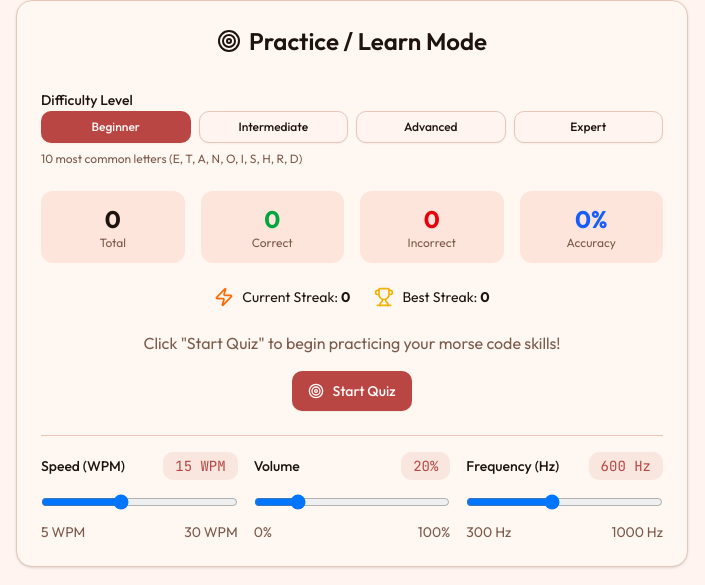
Scenario: PracticeQuiz › changes difficulty description when difficulty is clicked
This screenshot has width=705, height=585.
Click the button "Advanced". click: (431, 127)
box: [356,111,506,143]
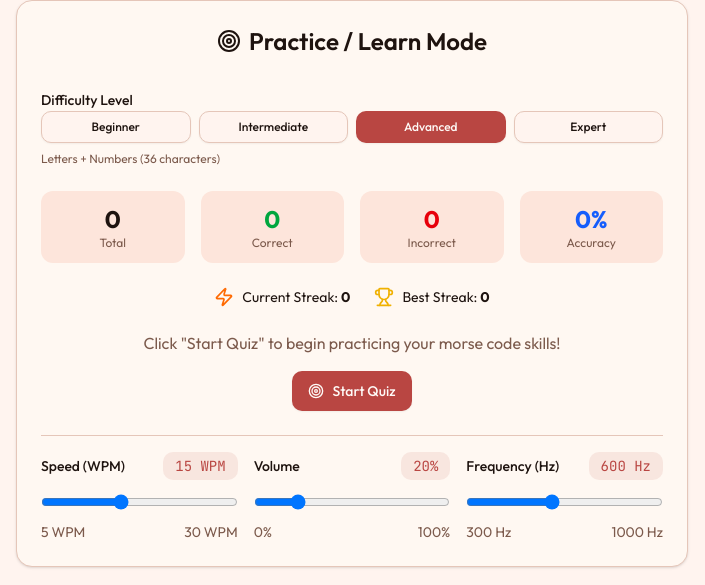
expect the text "Letters + Numbers (36 characters)" is shown: met, box [41,151,220,166]
